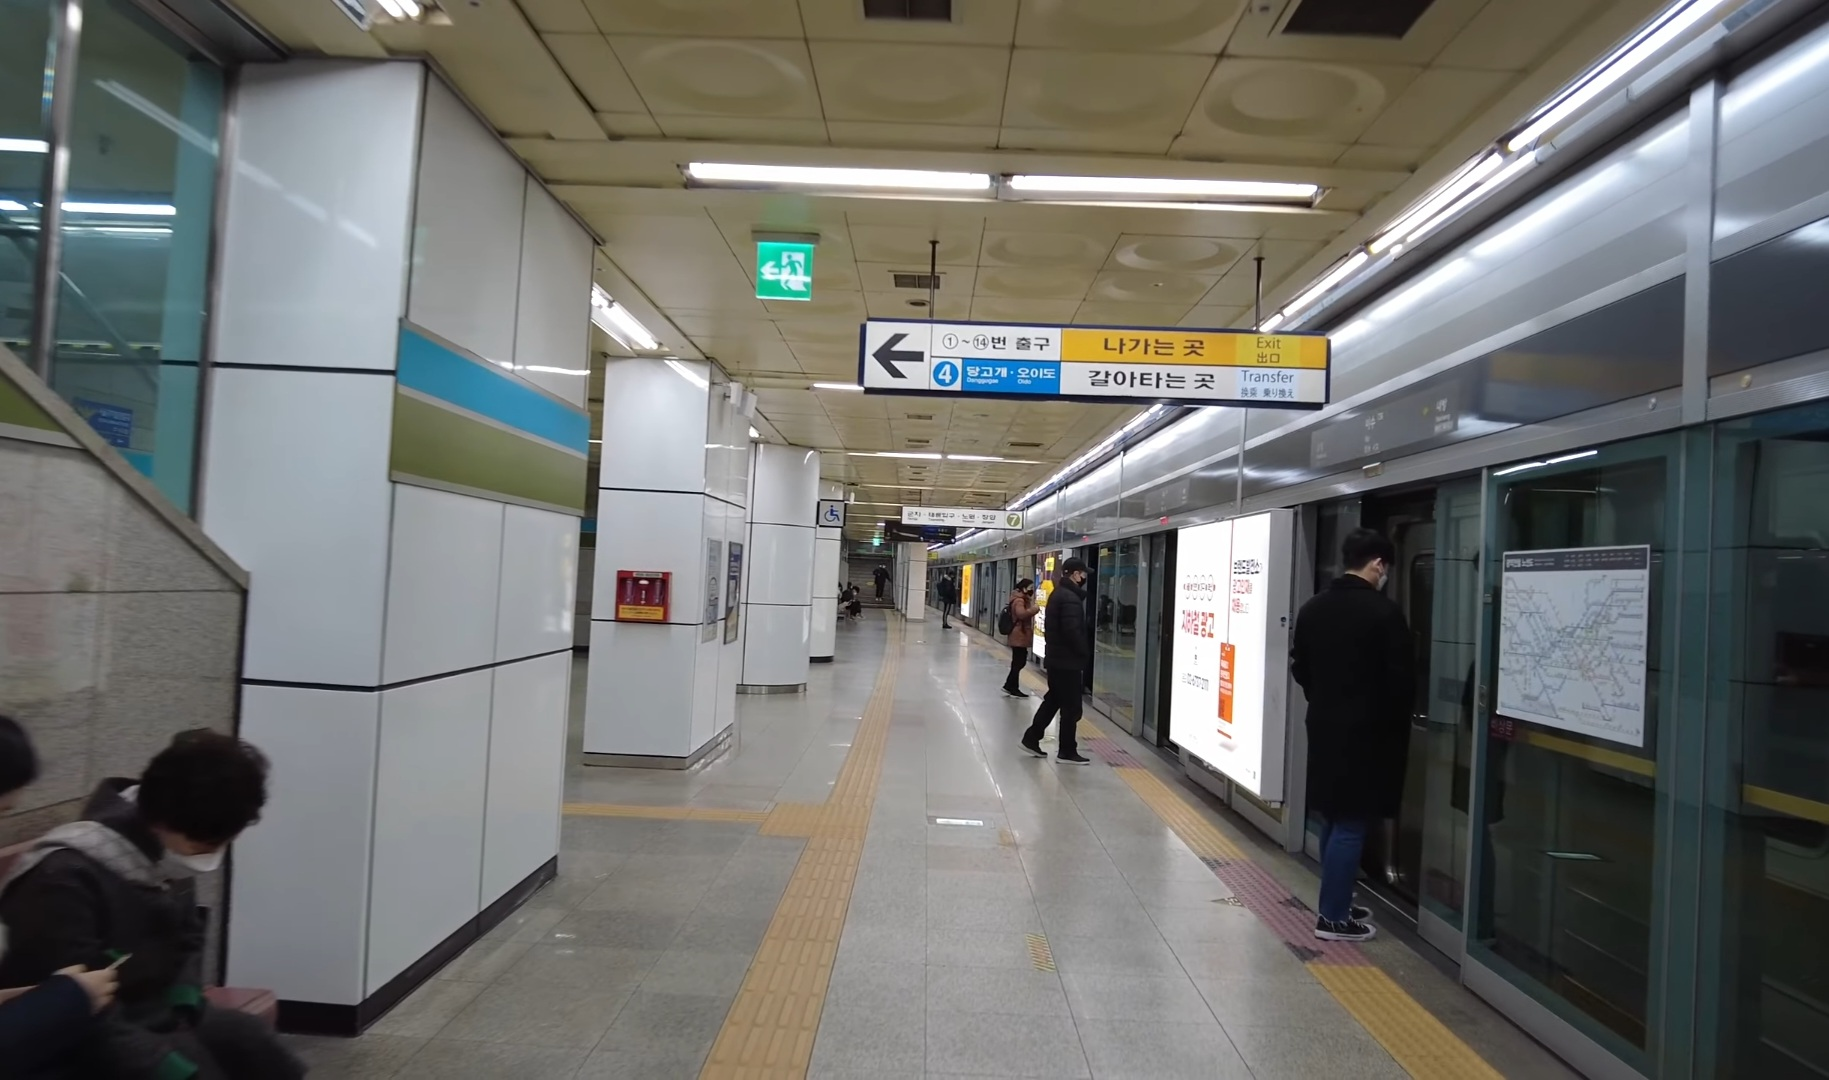signBoard: (859, 309, 1333, 417)
